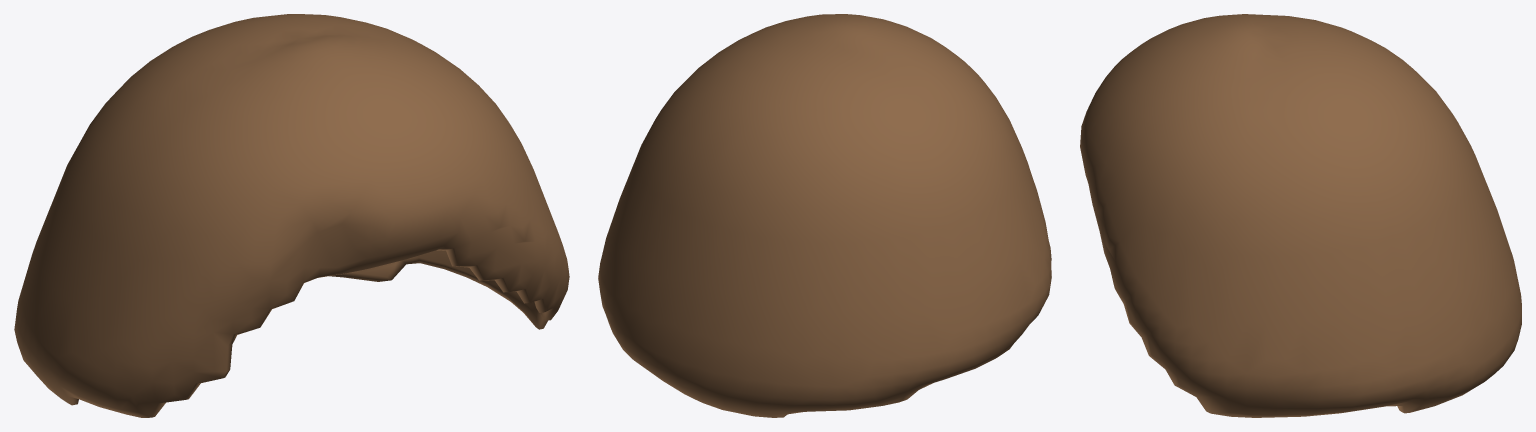
File: m_short.glb
3 renders of one model, left to right at view 1: azimuth 30°, elevation 25°; view 2: azimuth 150°, elevation 25°; view 3: azimuth 270°, elevation 25°, orthographic. The views are drawn at different scales.
Parts seen in each view (by area): view 1: m_short; view 2: m_short; view 3: m_short.
Part boxes in pixels (x1,y1,x2,y2): m_short: (14,14,569,417); m_short: (598,14,1051,417); m_short: (1080,14,1521,417).
Bounding box in the file's own units: 2.22 × 1.62 × 1.97.
